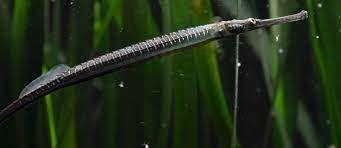Long-Snouted Pipefish: (1, 7, 309, 124)
